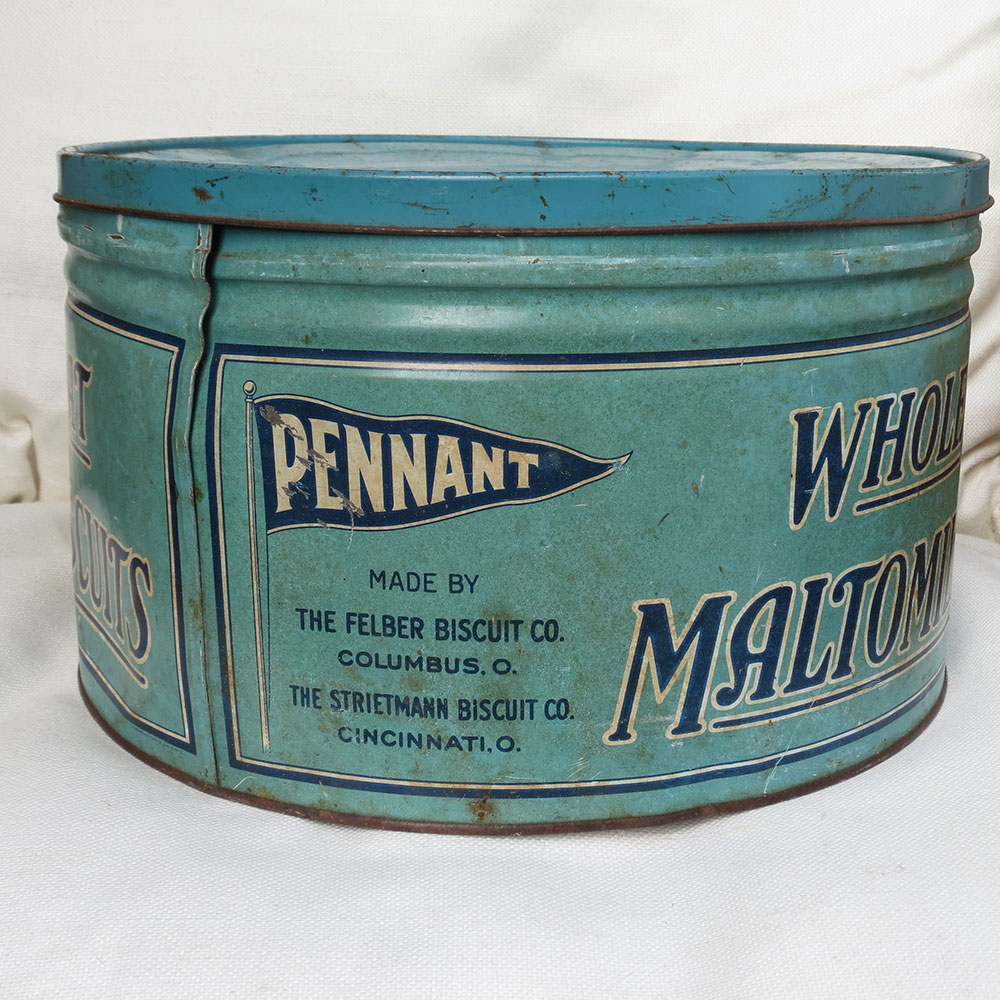metal: (47, 131, 997, 833)
